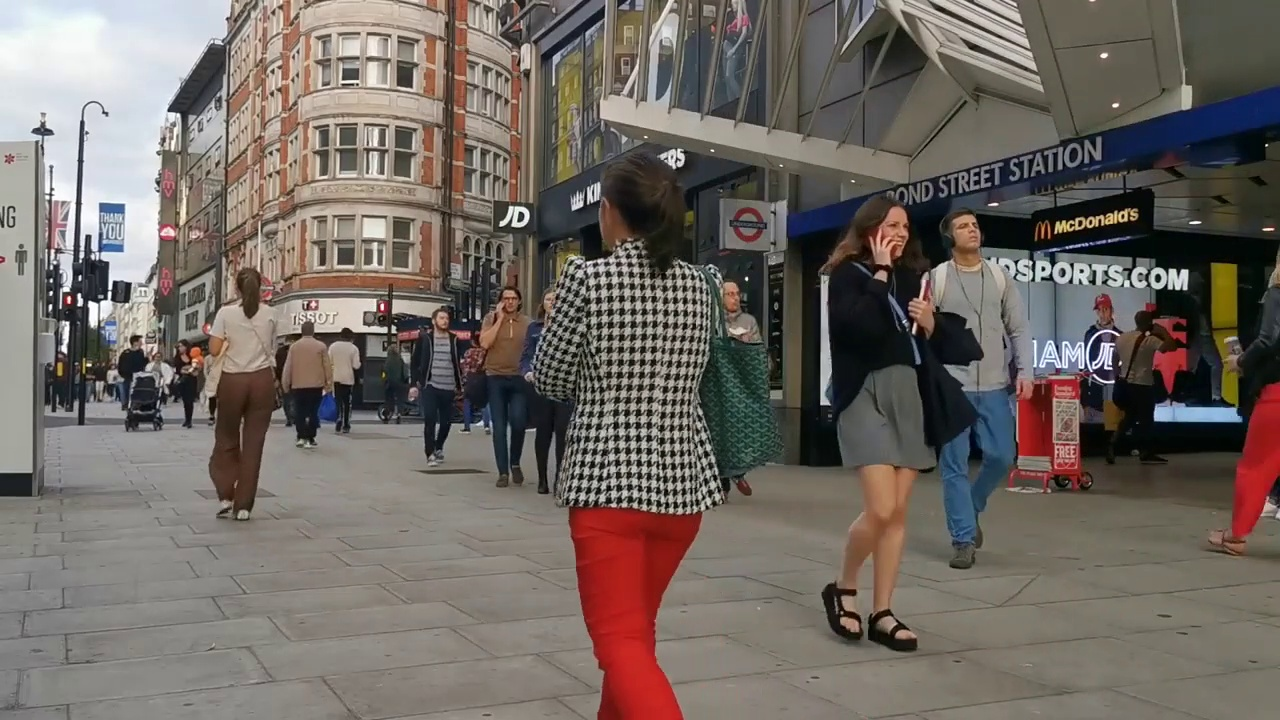female: (539, 151, 728, 720), (815, 195, 929, 656), (200, 267, 279, 521)
male: (922, 206, 1035, 572), (475, 284, 533, 485), (405, 308, 464, 466), (1111, 309, 1169, 465)
